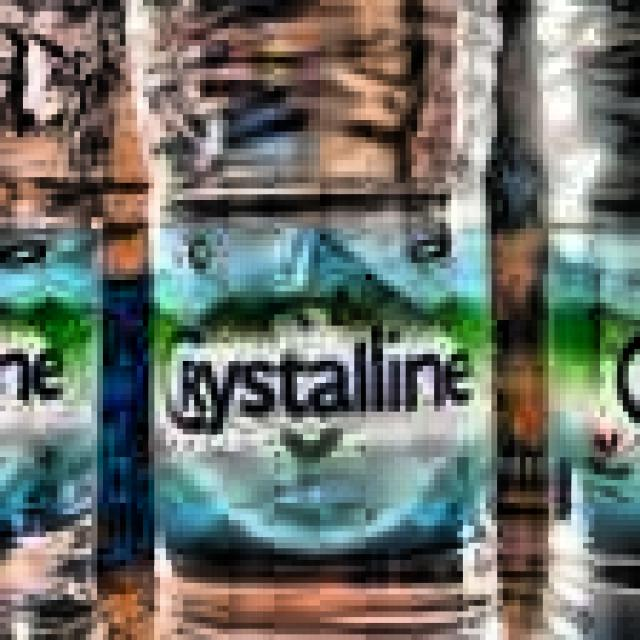plastic: (103, 0, 503, 640)
